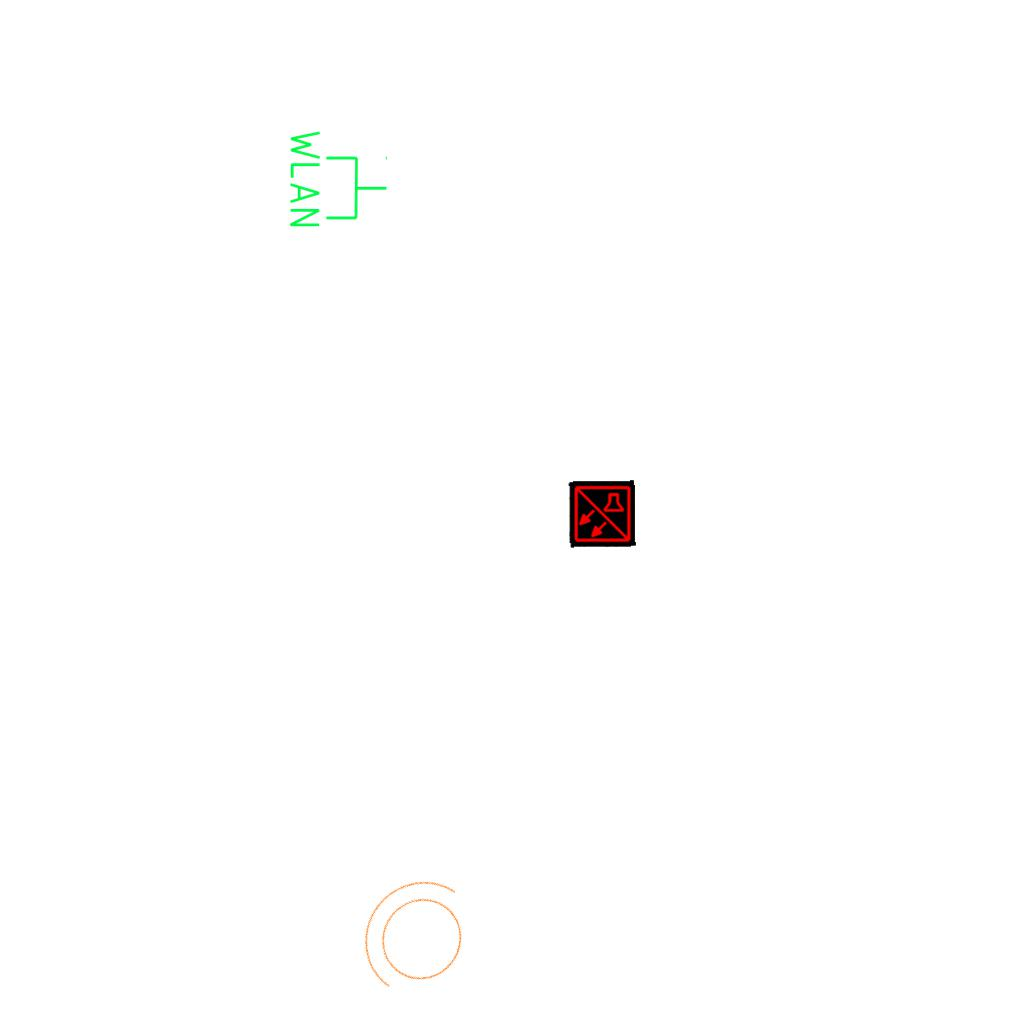OKW_Multisensormelder_(Kombination_optischer_Rauch-Kahlenmonoxid_Waerme-Melder): (568, 480, 636, 548)
Scheinwerfer_fuer_Alarmbeleuchtung: (332, 852, 500, 1024)
WLAN: (286, 126, 390, 231)
